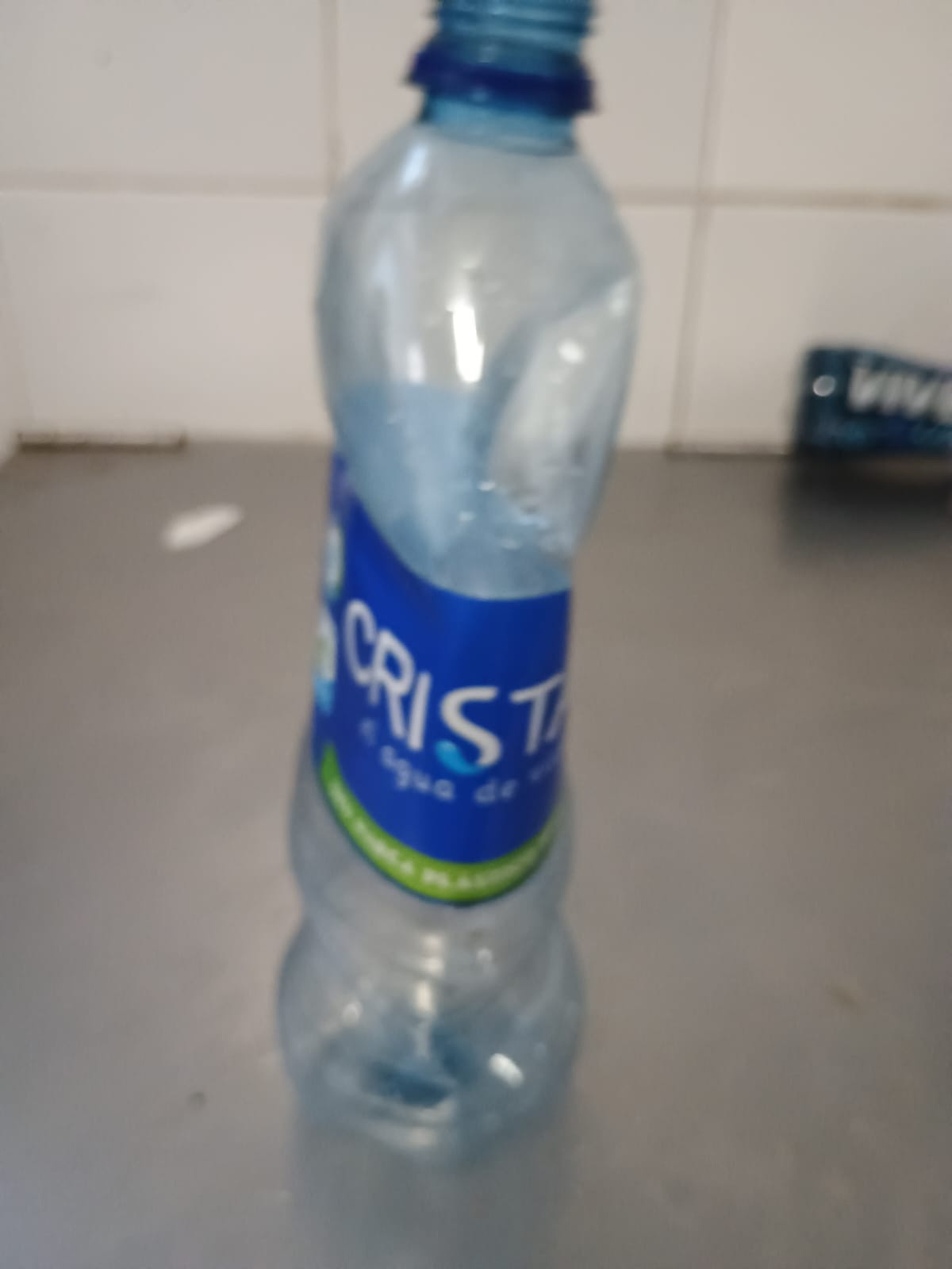Plastico: (281, 0, 646, 1159)
